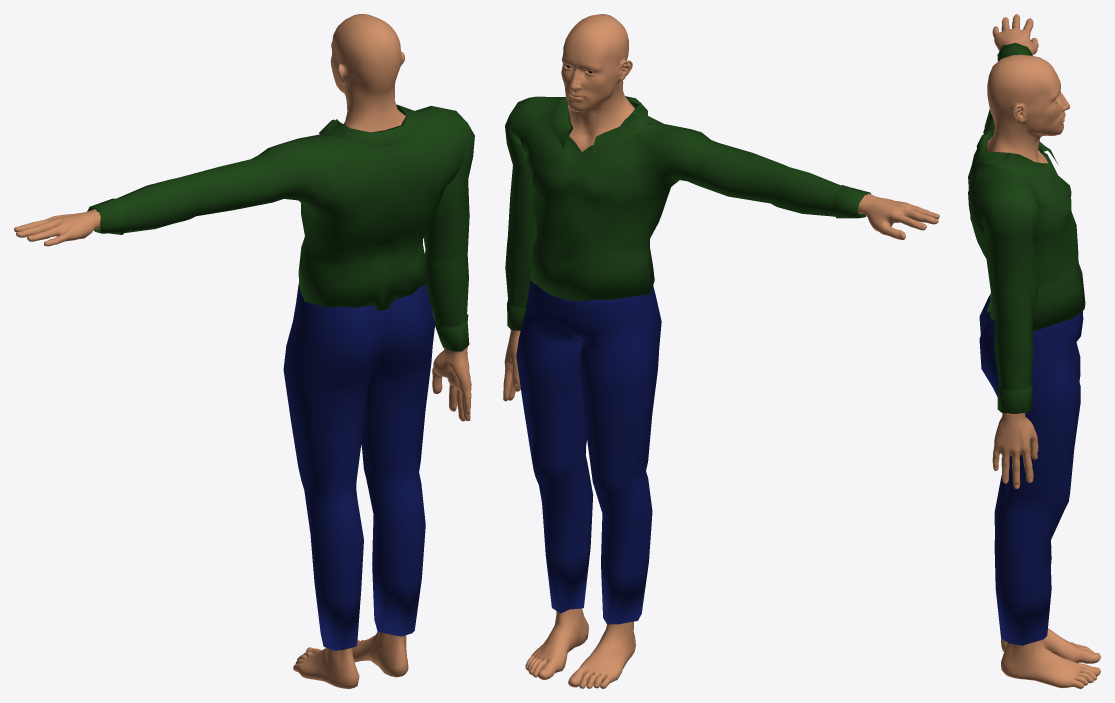
Rendered from point_left_v1.obj.
3 renders of one model, left to right at view 1: azimuth 30°, elevation 25°; view 2: azimuth 150°, elevation 25°; view 3: azimuth 270°, elevation 25°, orthographic. The views are drawn at different scales.
Visible parts, largest first — view 1: human_16; view 2: human_16; view 3: human_16.
Part boxes in pixels (x1=…): human_16: x1=14, y1=14, x2=474, y2=688; human_16: x1=503, y1=14, x2=939, y2=688; human_16: x1=968, y1=14, x2=1100, y2=688.
Bounding box in the file's own units: 1.22 × 1.72 × 0.3372.
